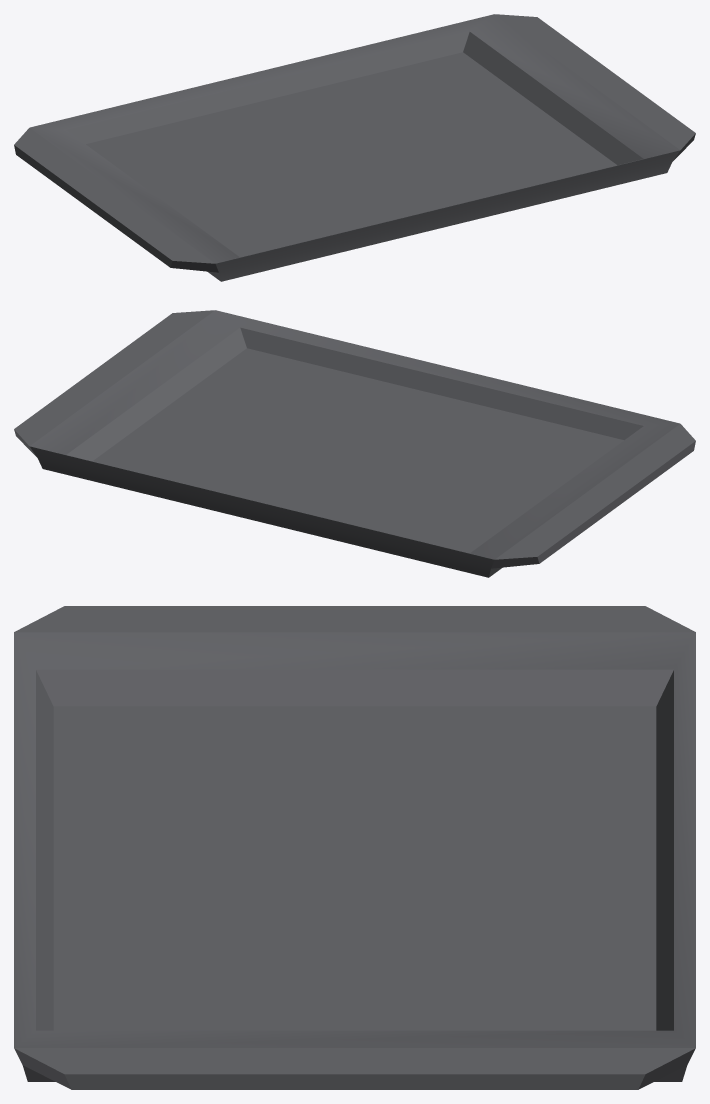
File: tray.fbx
3 views of the same model, one above another, from view 1: azimuth 30°, elevation 25°; view 2: azimuth 150°, elevation 25°; view 3: azimuth 270°, elevation 25° (orthographic). The views are drawn at different scales.
Parts seen in each view (by area): view 1: tray; view 2: tray; view 3: tray.
Boxes of the visible parts, box(x1,y1,x2,y2) form: tray: box(14, 14, 695, 281); tray: box(14, 310, 695, 577); tray: box(14, 606, 695, 1089).
Size of the model in its own units: 64.16 by 2.71 by 39.49.
